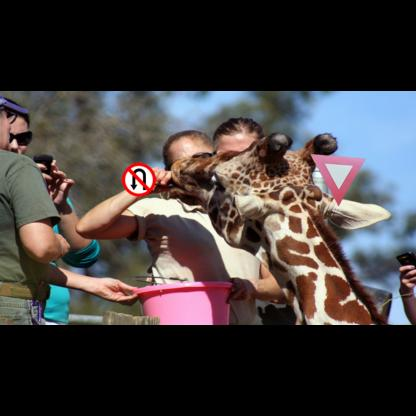R-2: (310, 154, 366, 206)
R-5a: (122, 162, 156, 196)
